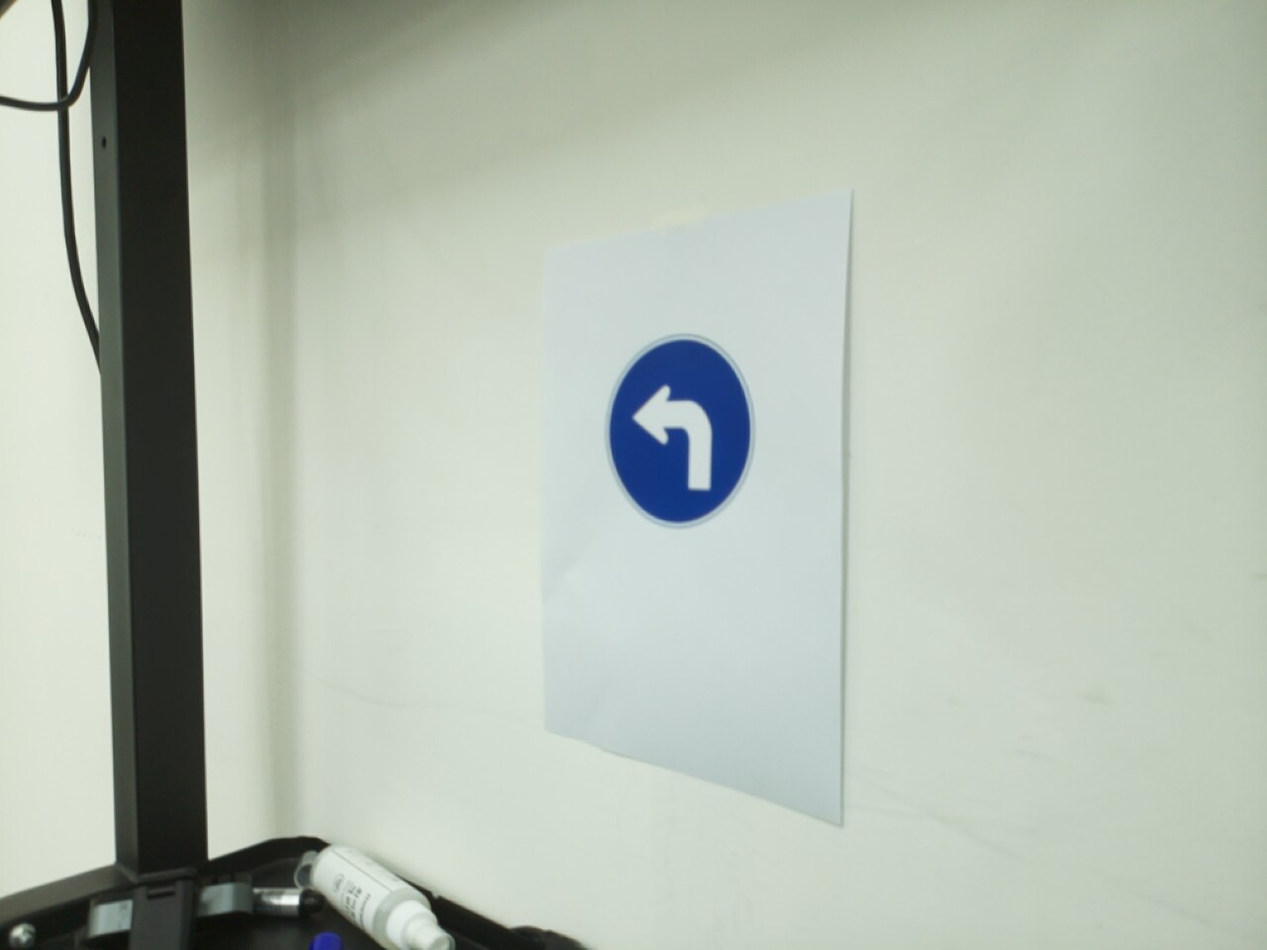left_turn: (603, 332, 757, 529)
